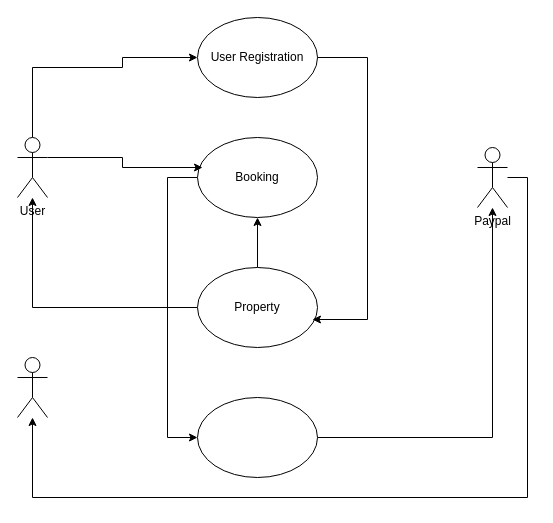
This 553x523 diagram has some shape labels left out. The centre of each missing label's shape, as x and y in pixels:
"Host" goes at point (32, 387).
"Payments" goes at point (257, 437).
